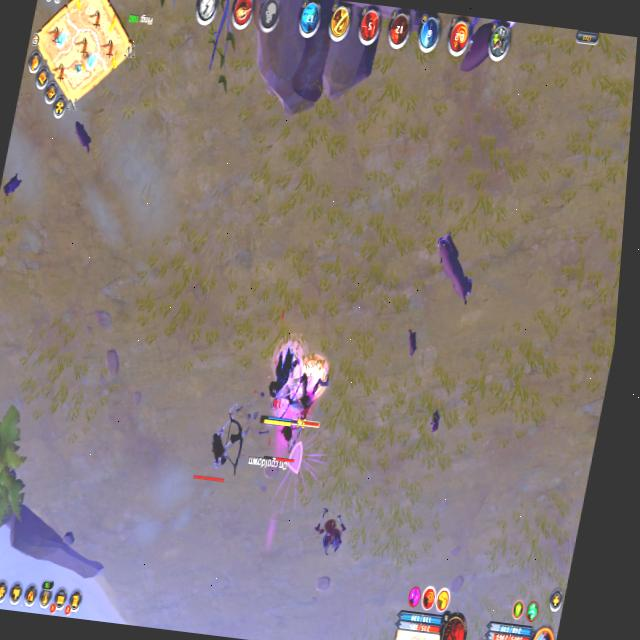ore: (187, 398, 255, 494), (447, 15, 527, 95), (419, 224, 486, 318), (282, 360, 341, 438), (256, 421, 298, 470)
red: (256, 339, 310, 431)
